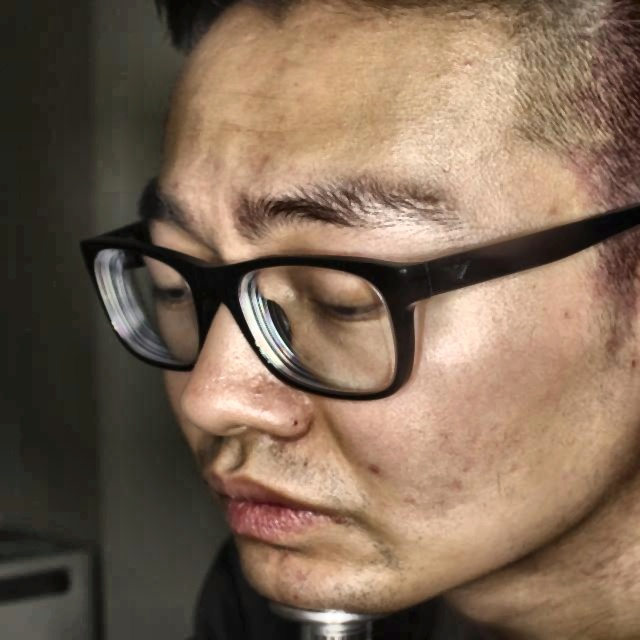comedone: (358, 461, 391, 479)
